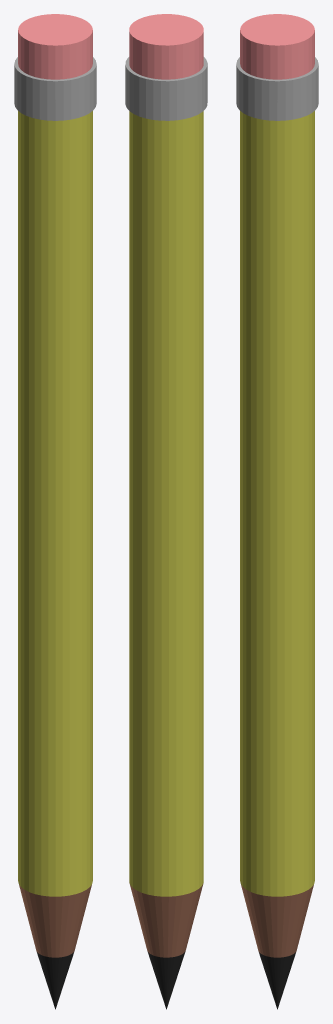
File: Pensil.fbx
3 views of the same model, side by side, from view 1: azimuth 90°, elevation 25°; view 2: azimuth 150°, elevation 25°; view 3: azimuth 270°, elevation 25° (orthographic).
Parts seen in each view (by area): view 1: Cylinder; view 2: Cylinder; view 3: Cylinder.
Boxes of the visible parts, x1,y1,x2,y2 form: Cylinder: (14,14,96,1009); Cylinder: (125,14,207,1009); Cylinder: (236,14,318,1009).
Bounding box in the file's own units: 47.73 × 627 × 47.73.
